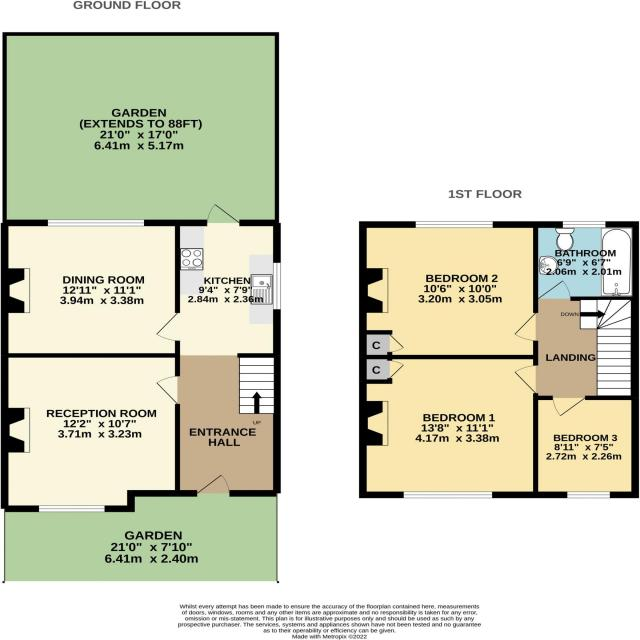DOOR: (205, 201, 242, 227), (196, 472, 232, 498), (512, 363, 540, 396), (512, 311, 540, 343), (154, 311, 181, 343), (551, 394, 587, 418), (154, 374, 181, 405)
ROOM: (150, 197, 283, 496), (0, 352, 181, 513), (357, 354, 539, 500), (357, 220, 539, 360), (0, 219, 181, 358), (532, 395, 640, 499)
WINDOW: (402, 490, 493, 500), (413, 219, 495, 230), (47, 219, 145, 227), (38, 504, 106, 514), (565, 490, 612, 500), (561, 220, 607, 230), (272, 262, 281, 311)
